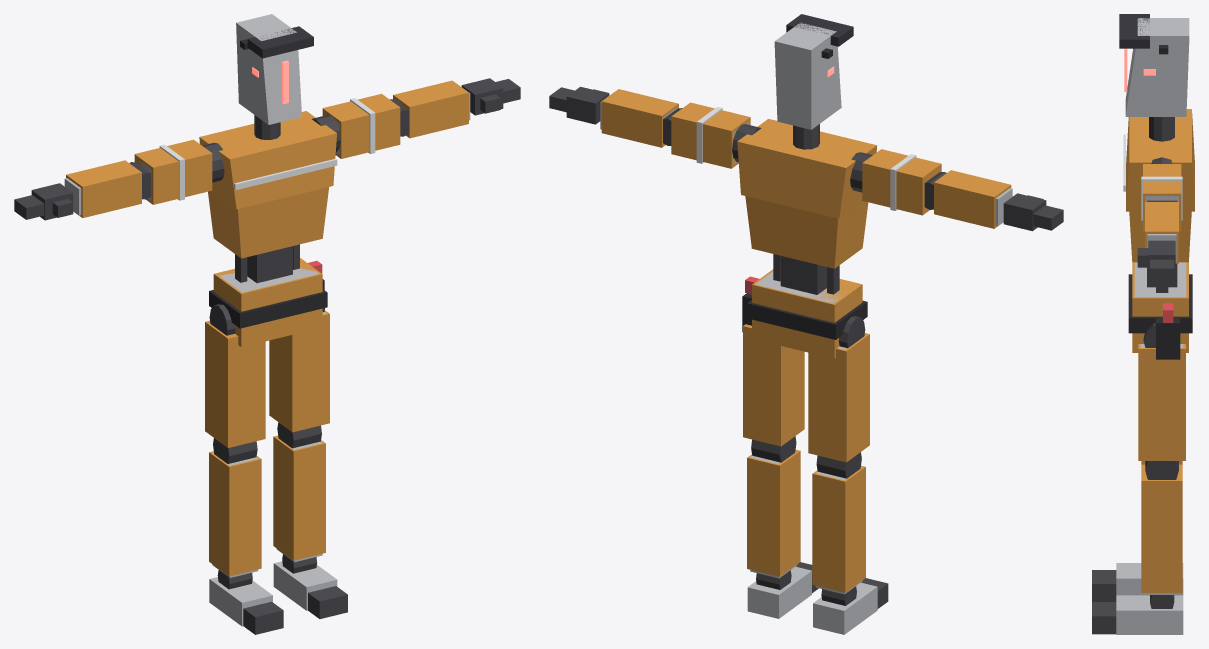
The model's file is char_F2_engineer.glb.
3 renders of one model, left to right at view 1: azimuth 30°, elevation 25°; view 2: azimuth 150°, elevation 25°; view 3: azimuth 270°, elevation 25°, orthographic. The views are drawn at different scales.
Parts seen in each view (by area): view 1: UpperChest_mesh, RightUpperLeg_mesh, LeftLowerLeg_mesh, RightLowerLeg_mesh, Hips_mesh, Head_mesh, LeftUpperLeg_mesh, Chest_mesh, RightLowerArm_mesh, RightUpperArm_mesh, LeftUpperArm_mesh, LeftLowerArm_mesh (+7 smaller); view 2: UpperChest_mesh, RightUpperLeg_mesh, LeftLowerLeg_mesh, RightLowerLeg_mesh, Hips_mesh, Head_mesh, LeftUpperLeg_mesh, Chest_mesh, RightLowerArm_mesh, RightUpperArm_mesh, LeftUpperArm_mesh, LeftLowerArm_mesh (+5 smaller); view 3: Head_mesh, LeftLowerLeg_mesh, LeftUpperLeg_mesh, Hips_mesh, UpperChest_mesh, LeftFoot_mesh, LeftUpperArm_mesh, LeftLowerArm_mesh, LeftHand_mesh, Chest_mesh, RightFoot_mesh, LeftToes_mesh (+4 smaller).
Part boxes in pixels (x1,y1,x2,y2): UpperChest_mesh: (199,111,337,209); RightUpperLeg_mesh: (205,304,265,447); LeftLowerLeg_mesh: (273,422,325,562); RightLowerLeg_mesh: (209,438,261,577); Hips_mesh: (209,258,327,347); Head_mesh: (236,14,313,124); LeftUpperLeg_mesh: (269,308,329,432); Chest_mesh: (208,187,328,258); RightLowerArm_mesh: (64,160,151,217); RightUpperArm_mesh: (134,139,212,204); LeftUpperArm_mesh: (322,93,400,158); LeftLowerArm_mesh: (390,80,470,138); UpperChest_mesh: (737,119,877,218); RightUpperLeg_mesh: (808,316,869,462); LeftLowerLeg_mesh: (747,436,800,578); RightLowerLeg_mesh: (812,452,865,594); Hips_mesh: (742,269,867,358); Head_mesh: (774,14,853,129); LeftUpperLeg_mesh: (743,324,804,446); Chest_mesh: (745,196,868,268); RightLowerArm_mesh: (924,170,1012,228); RightUpperArm_mesh: (862,149,941,215); LeftUpperArm_mesh: (671,102,750,168); LeftLowerArm_mesh: (600,89,682,147); Head_mesh: (1119,14,1189,116); LeftLowerLeg_mesh: (1141,461,1182,594); LeftUpperLeg_mesh: (1138,323,1185,460); Hips_mesh: (1128,262,1192,359); UpperChest_mesh: (1123,109,1194,211); LeftFoot_mesh: (1116,595,1183,634); LeftUpperArm_mesh: (1141,164,1182,231); LeftLowerArm_mesh: (1145,200,1178,263); LeftHand_mesh: (1137,240,1175,280); Chest_mesh: (1129,211,1191,262); RightFoot_mesh: (1116,563,1183,595); LeftToes_mesh: (1092,602,1116,634).
Bounding box in the file's own units: 1.69 × 1.86 × 0.2974.
